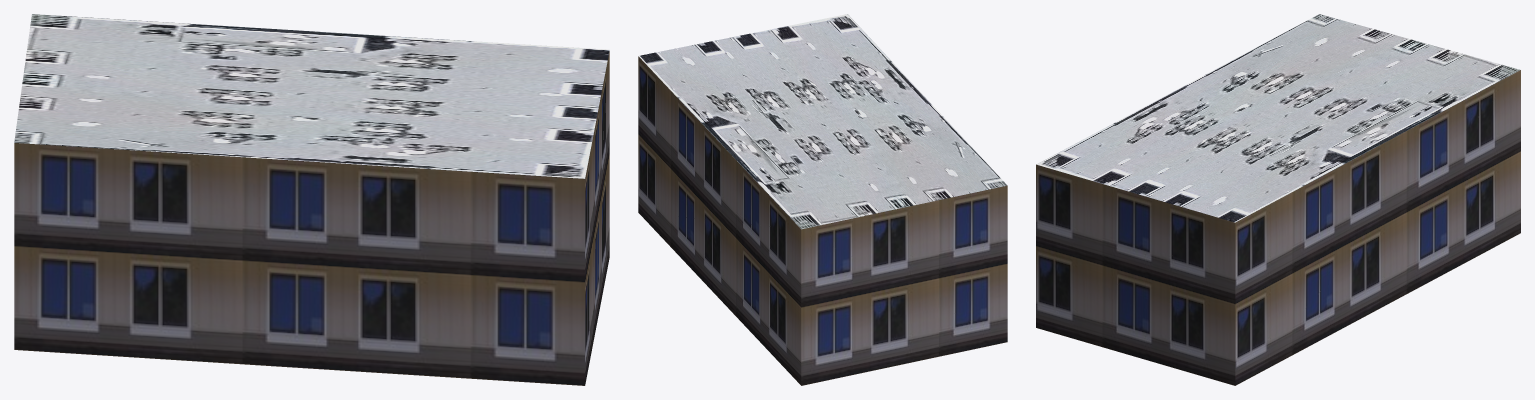
Rendered from ResTex__2932.fbx.
3 renders of one model, left to right at view 1: azimuth 30°, elevation 25°; view 2: azimuth 150°, elevation 25°; view 3: azimuth 270°, elevation 25°, orthographic. The views are drawn at different scales.
Parts seen in each view (by area): view 1: CityEngineMaterial_5_m, CityEngineMaterial_2_m; view 2: CityEngineMaterial_5_m, CityEngineMaterial_2_m; view 3: CityEngineMaterial_5_m, CityEngineMaterial_2_m.
Boxes of the visible parts, x1=… form: CityEngineMaterial_5_m: x1=14, y1=51, x2=609, y2=385; CityEngineMaterial_2_m: x1=14, y1=14, x2=609, y2=178; CityEngineMaterial_5_m: x1=638, y1=56, x2=1007, y2=385; CityEngineMaterial_2_m: x1=638, y1=14, x2=1007, y2=229; CityEngineMaterial_5_m: x1=1036, y1=70, x2=1520, y2=385; CityEngineMaterial_2_m: x1=1036, y1=14, x2=1519, y2=222.
Size of the model in its own units: 16.44 by 6 by 16.14.
2 materials, 2 textured.
